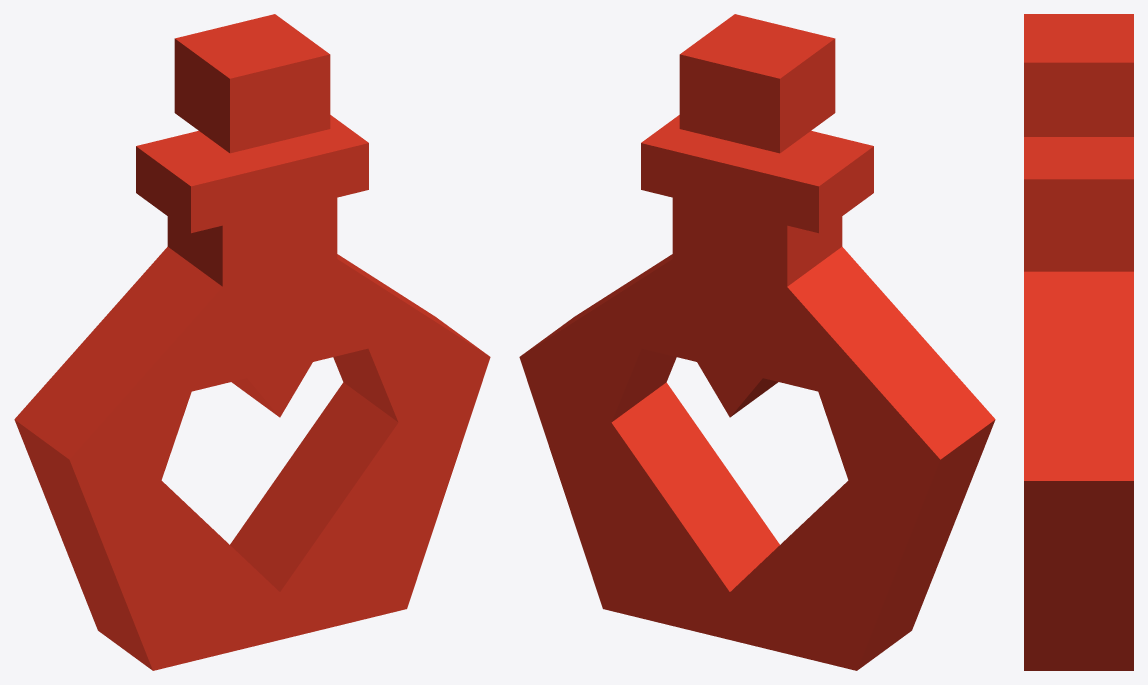
Rendered from Icon_Potion_08.fbx.
The picture shows the model from 3 angles, left to right: view 1: azimuth 30°, elevation 25°; view 2: azimuth 150°, elevation 25°; view 3: azimuth 270°, elevation 25°; orthographic projection.
Visible parts, largest first — view 1: Icon_Potion_08; view 2: Icon_Potion_08; view 3: Icon_Potion_08.
Boxes of the visible parts, x1,y1,x2,y2 form: Icon_Potion_08: (14,14,490,670); Icon_Potion_08: (519,14,995,670); Icon_Potion_08: (1024,14,1133,670).
Size of the model in its own units: 53.2 by 69.22 by 12.06.
